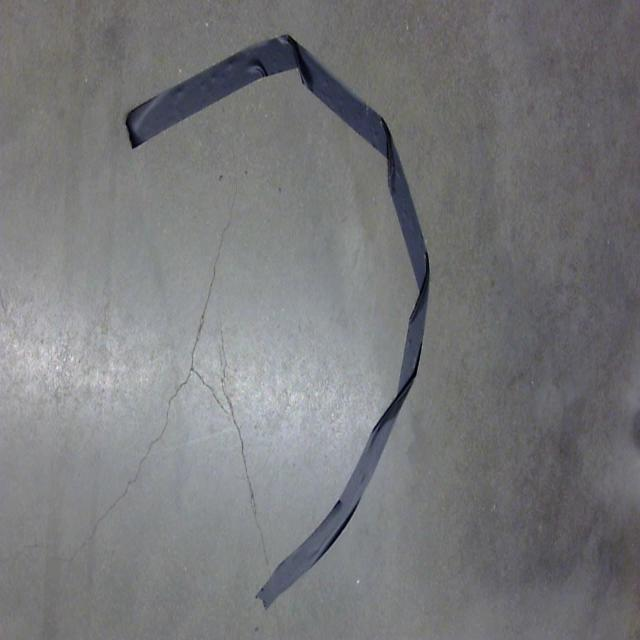tape: (100, 13, 448, 634)
